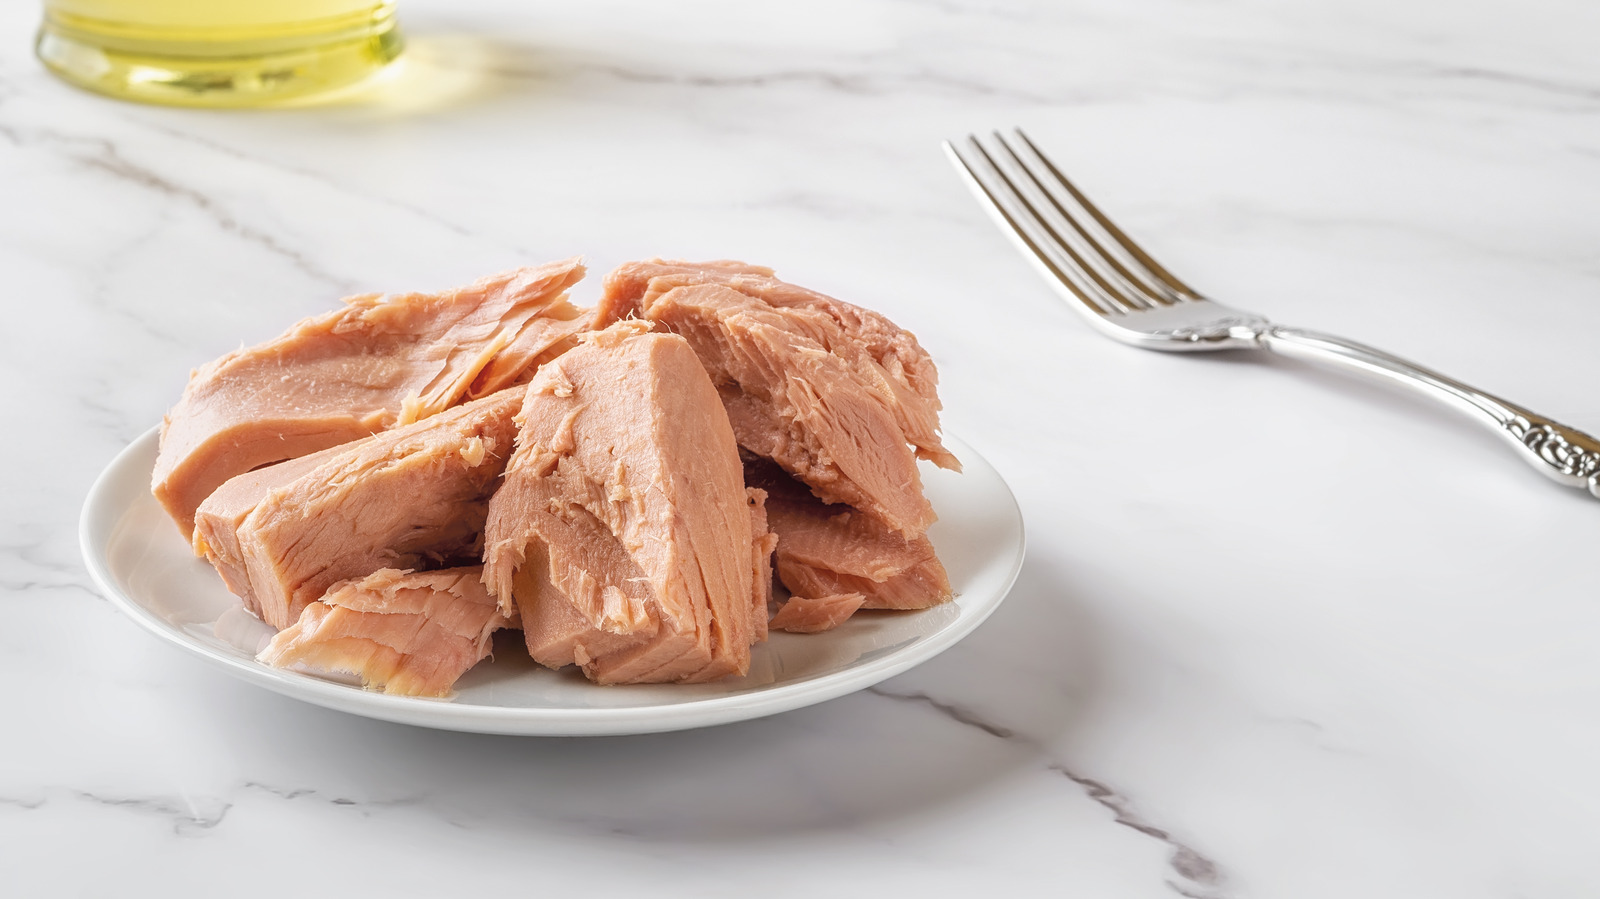Tuna: (142, 246, 966, 723)
